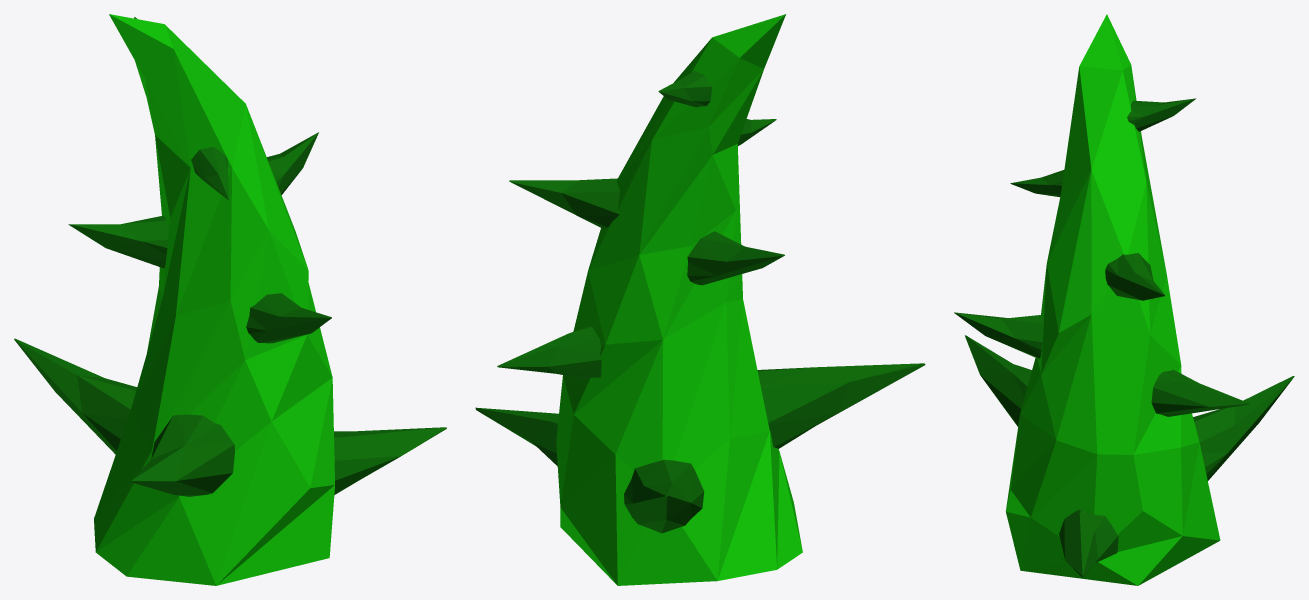
File: stm_env_Thorn.fbx
3 views of the same model, side by side, from view 1: azimuth 30°, elevation 25°; view 2: azimuth 150°, elevation 25°; view 3: azimuth 270°, elevation 25° (orthographic). The views are drawn at different scales.
Parts seen in each view (by area): view 1: Thorn; view 2: Thorn; view 3: Thorn.
Boxes of the visible parts, x1,y1,x2,y2 form: Thorn: (14, 14, 446, 585); Thorn: (475, 14, 925, 585); Thorn: (954, 14, 1294, 585).
Bounding box in the file's own units: 356 × 492 × 313.
